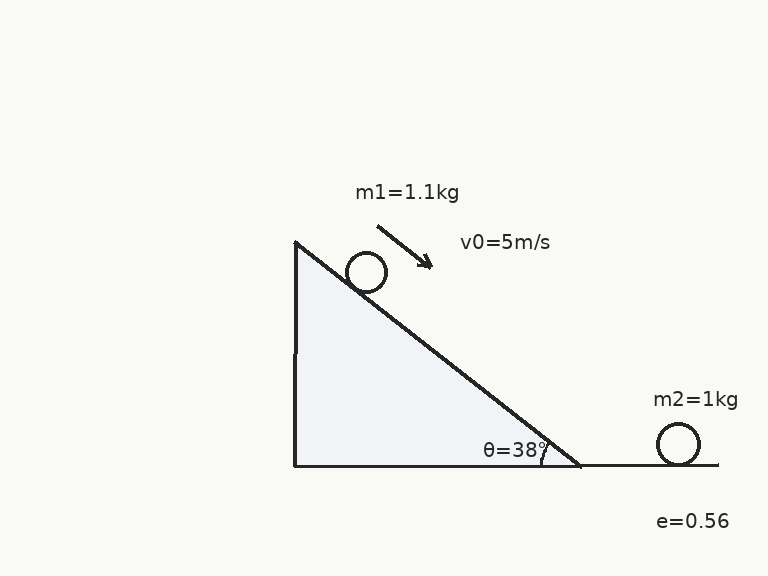ball: (654, 420, 702, 468), (343, 249, 389, 295)
ramp: (292, 240, 583, 468)
